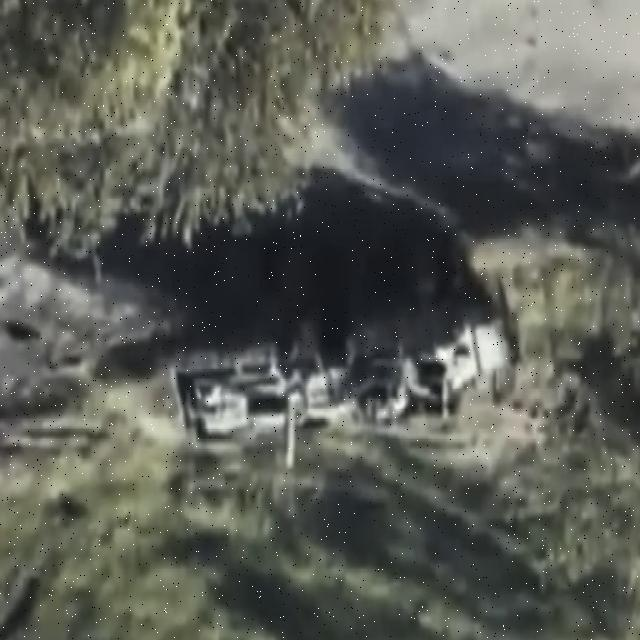APC-IFV: (167, 213, 522, 479)
